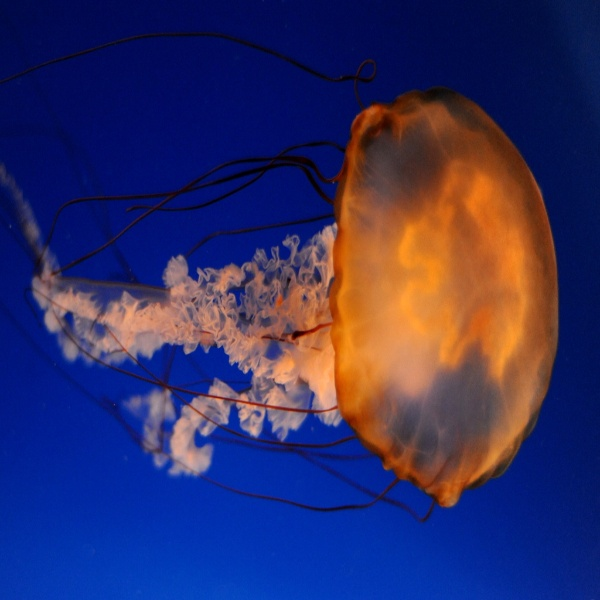Jellyfish: (0, 25, 558, 524)
